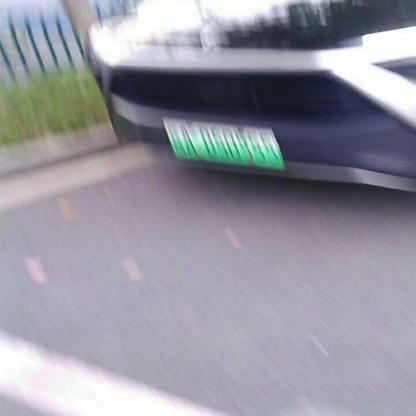lp: (161, 117, 284, 169)
